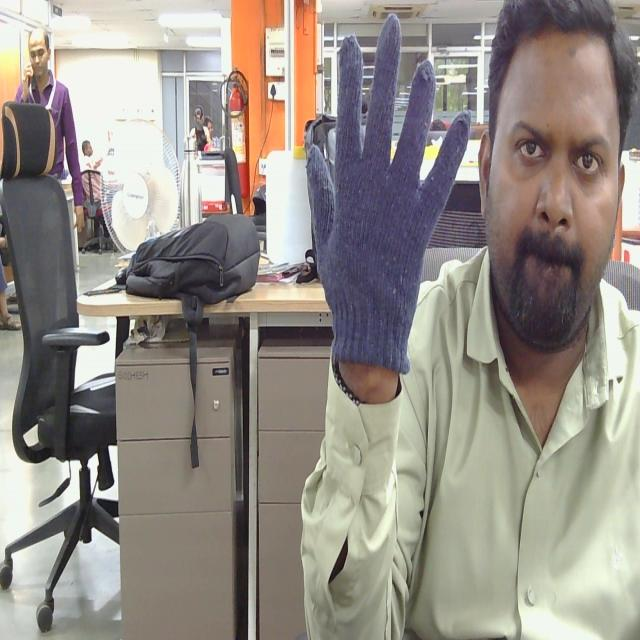Gloves-Detection: (303, 15, 469, 358)
